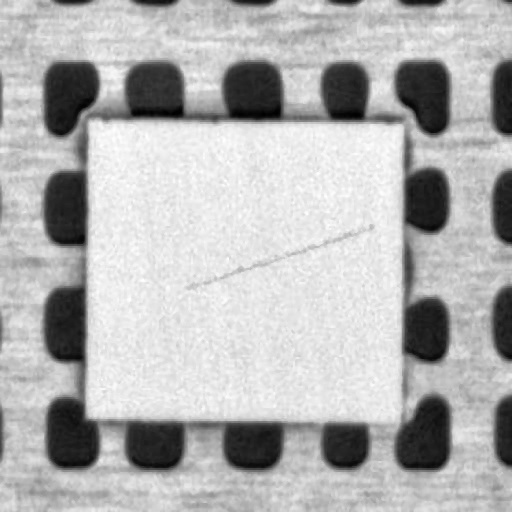DIE_CRACK: (246, 170, 492, 216)
